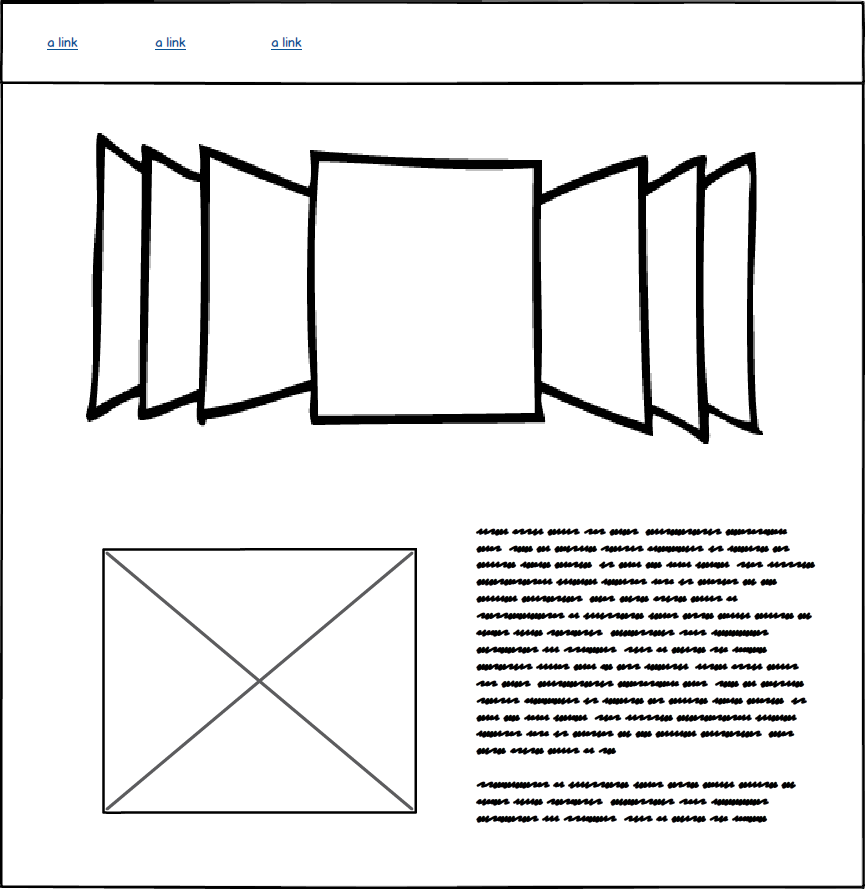image: (95, 540, 425, 819)
navlink: (34, 25, 88, 62), (259, 28, 310, 62), (151, 29, 194, 62)
p: (461, 520, 824, 835)
slideshow: (74, 120, 775, 447)
